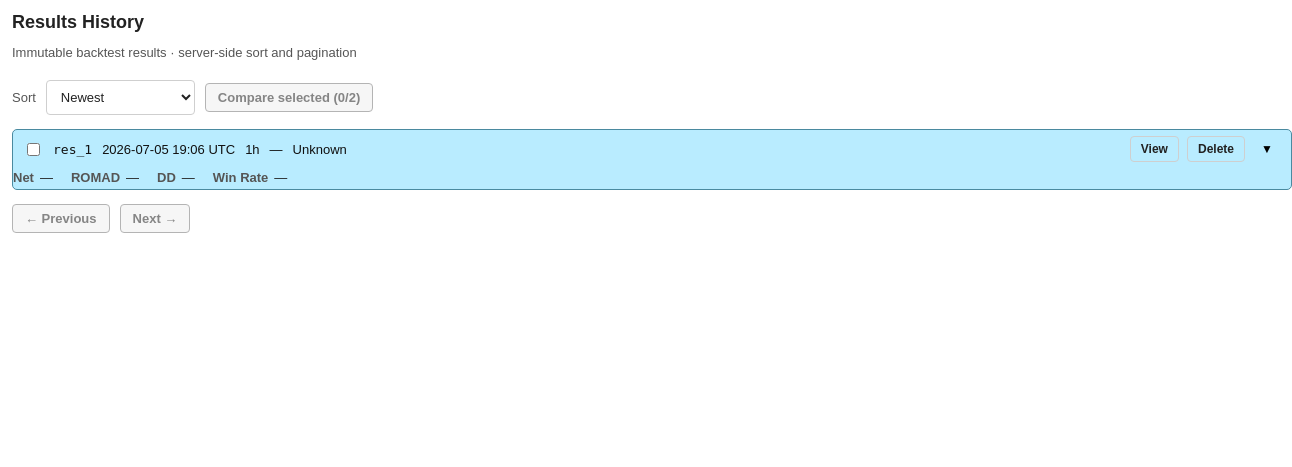
Test case: Results History compare & soft-delete › soft-deletes a result only after the explicit confirm step
expect the text "res_1" is shown: met, box 53,142 -> 92,156
Click the button "Delete" at (1216, 149), box 1187,136 -> 1245,162
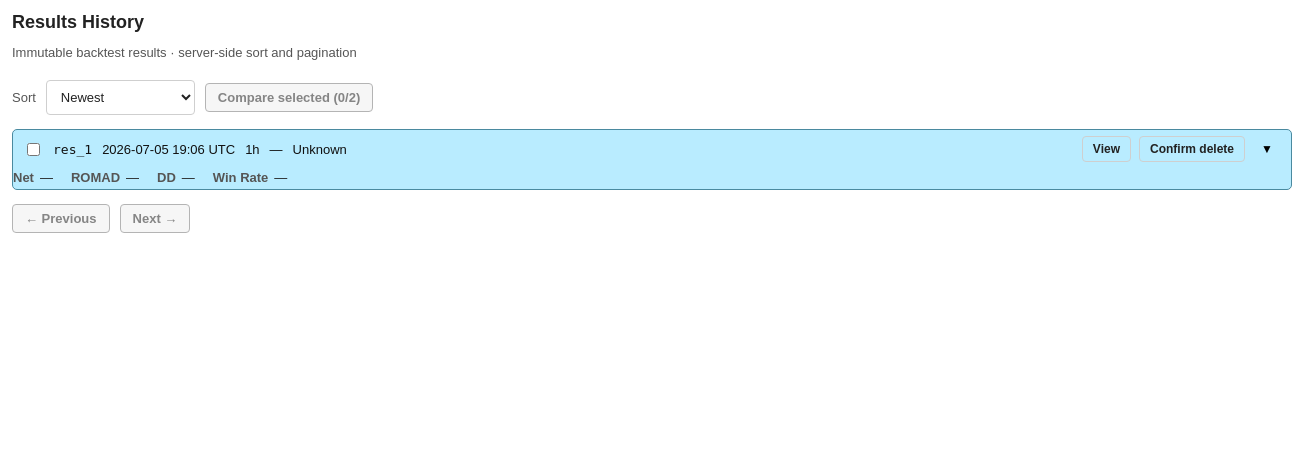
Click the button "Confirm delete" at (1192, 149), box 1139,136 -> 1245,162
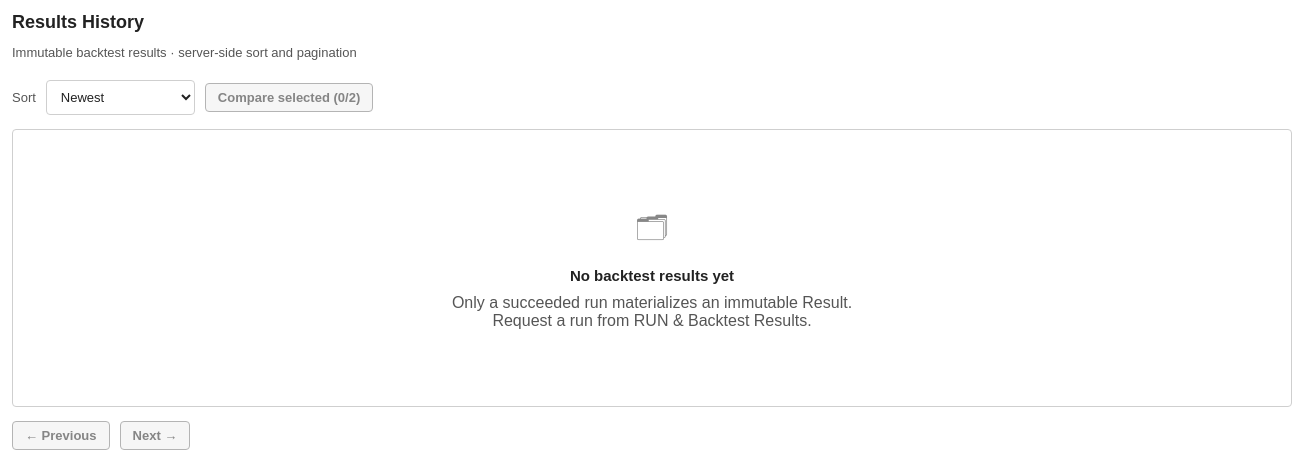
expect the text "res_1" is gone: met
